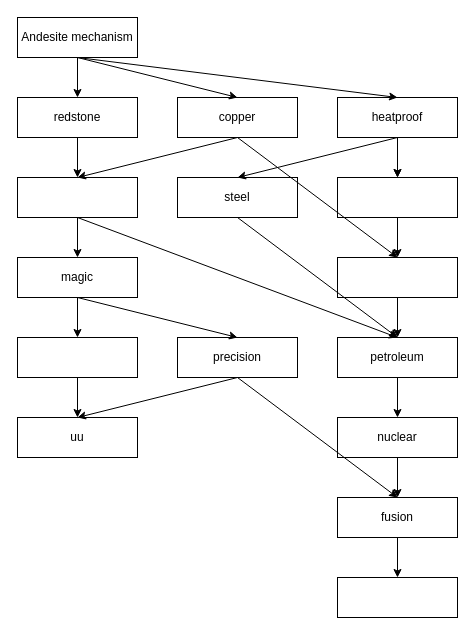
This 475x635 diagram has some shape labels left out. The centre of each missing label's shape, as x and y in pixels:
brass: (x=77, y=197)
creative: (x=397, y=597)
ender: (x=77, y=357)
pressured: (x=397, y=197)
steam: (x=397, y=277)
